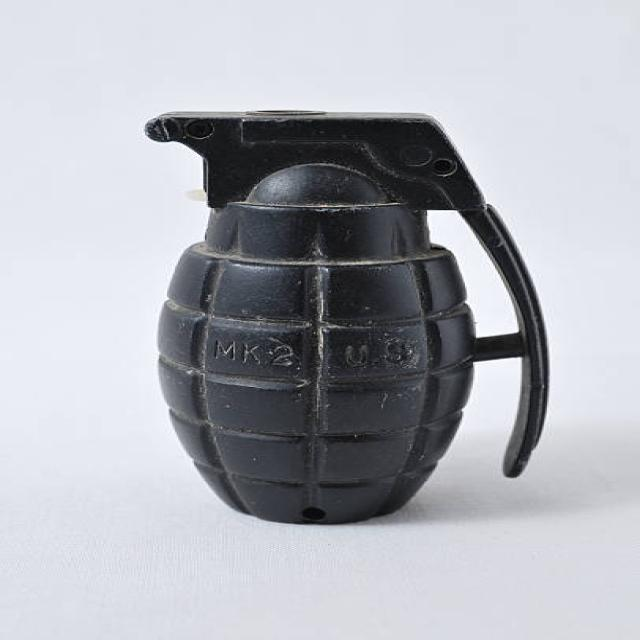grenade: (133, 94, 577, 541)
